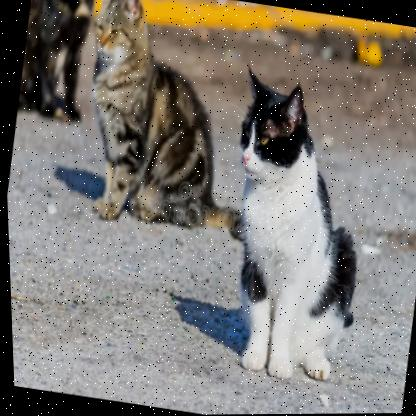cat: (200, 66, 385, 382), (66, 0, 244, 230)
